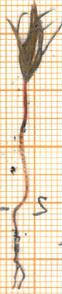flower: (0, 1, 62, 85)
root: (7, 208, 27, 294)
stem: (11, 81, 36, 209)
